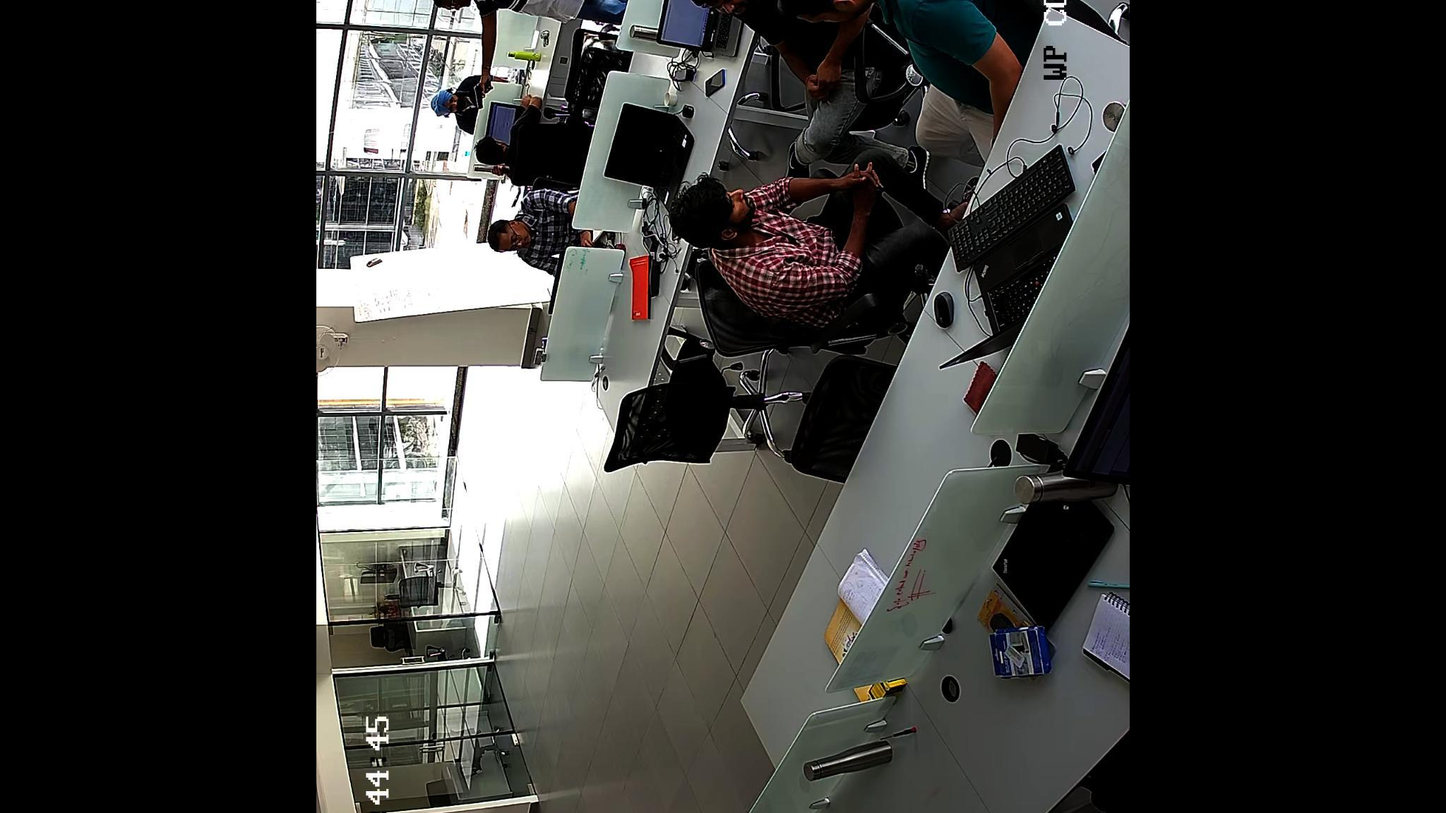gun: (474, 81, 492, 108)
